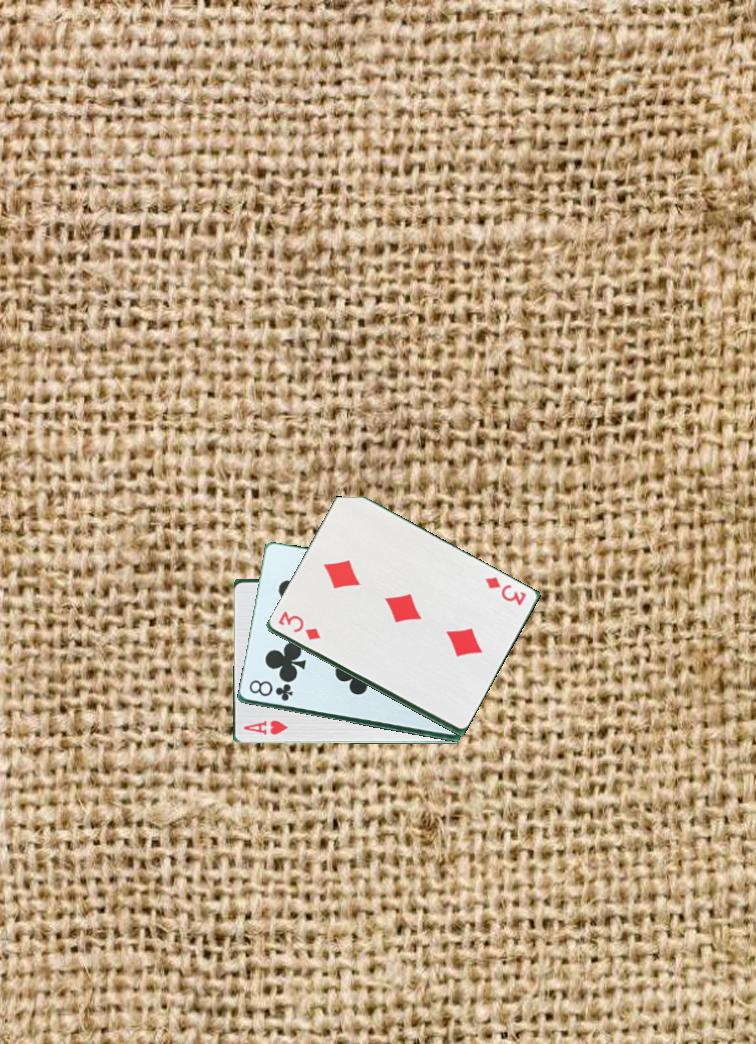3d: (481, 573, 529, 609), (274, 609, 323, 643)
8c: (245, 678, 295, 704)
ah: (240, 717, 290, 738)
